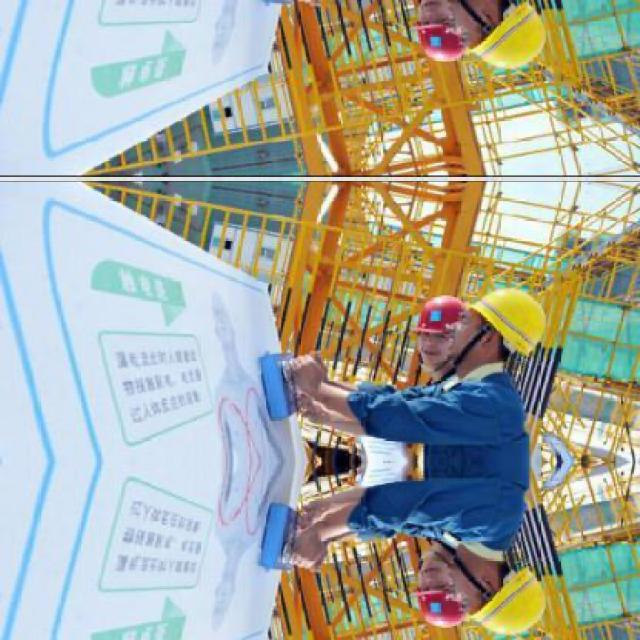helmet: (450, 288, 544, 366), (450, 557, 544, 635), (449, 0, 545, 68), (416, 294, 464, 366), (416, 557, 464, 629), (416, 0, 466, 62)
